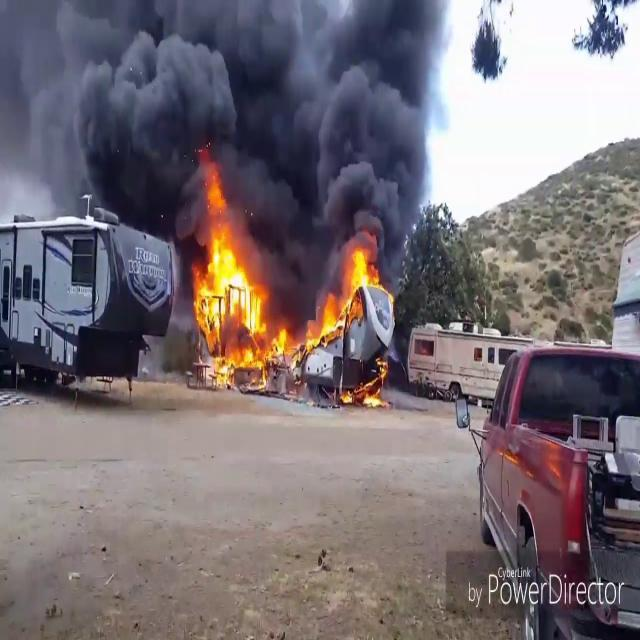Fire: (190, 196, 290, 384), (314, 242, 383, 340), (340, 361, 390, 408)
Smoke: (0, 0, 460, 247)
